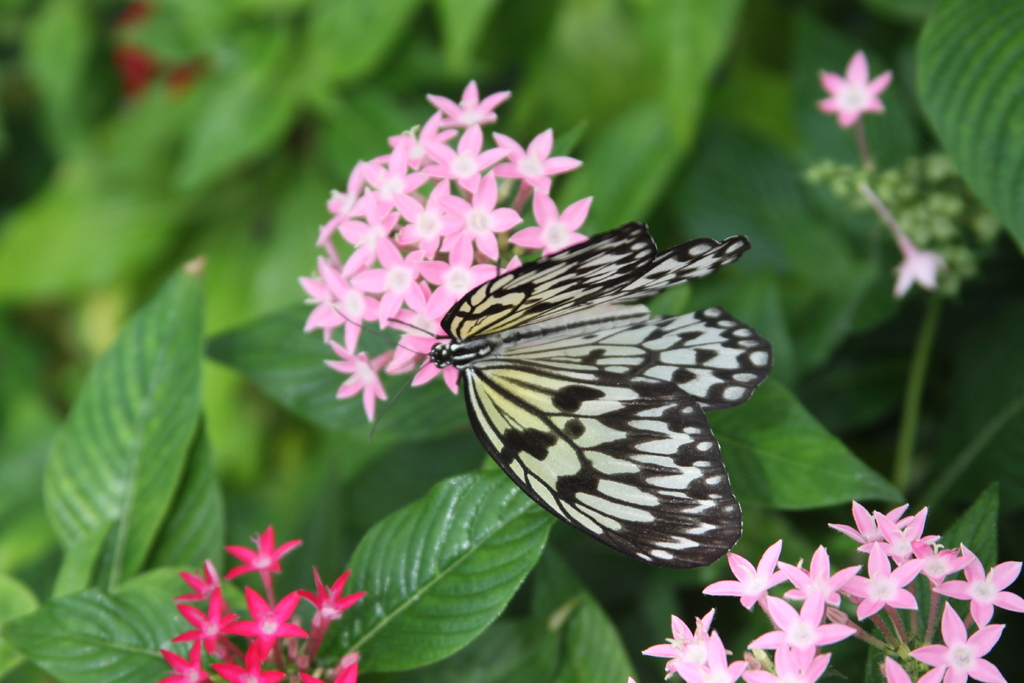Butterfly: (391, 212, 827, 570)
